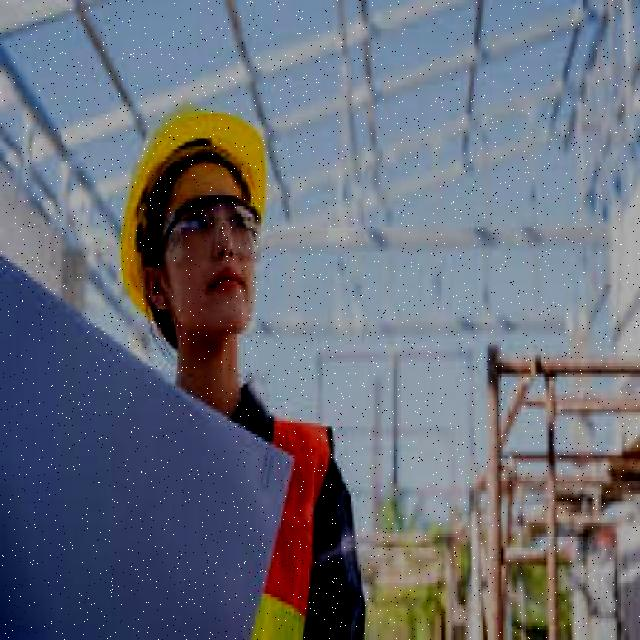Helmet: (106, 110, 274, 238)
Mask: (254, 407, 337, 640)
